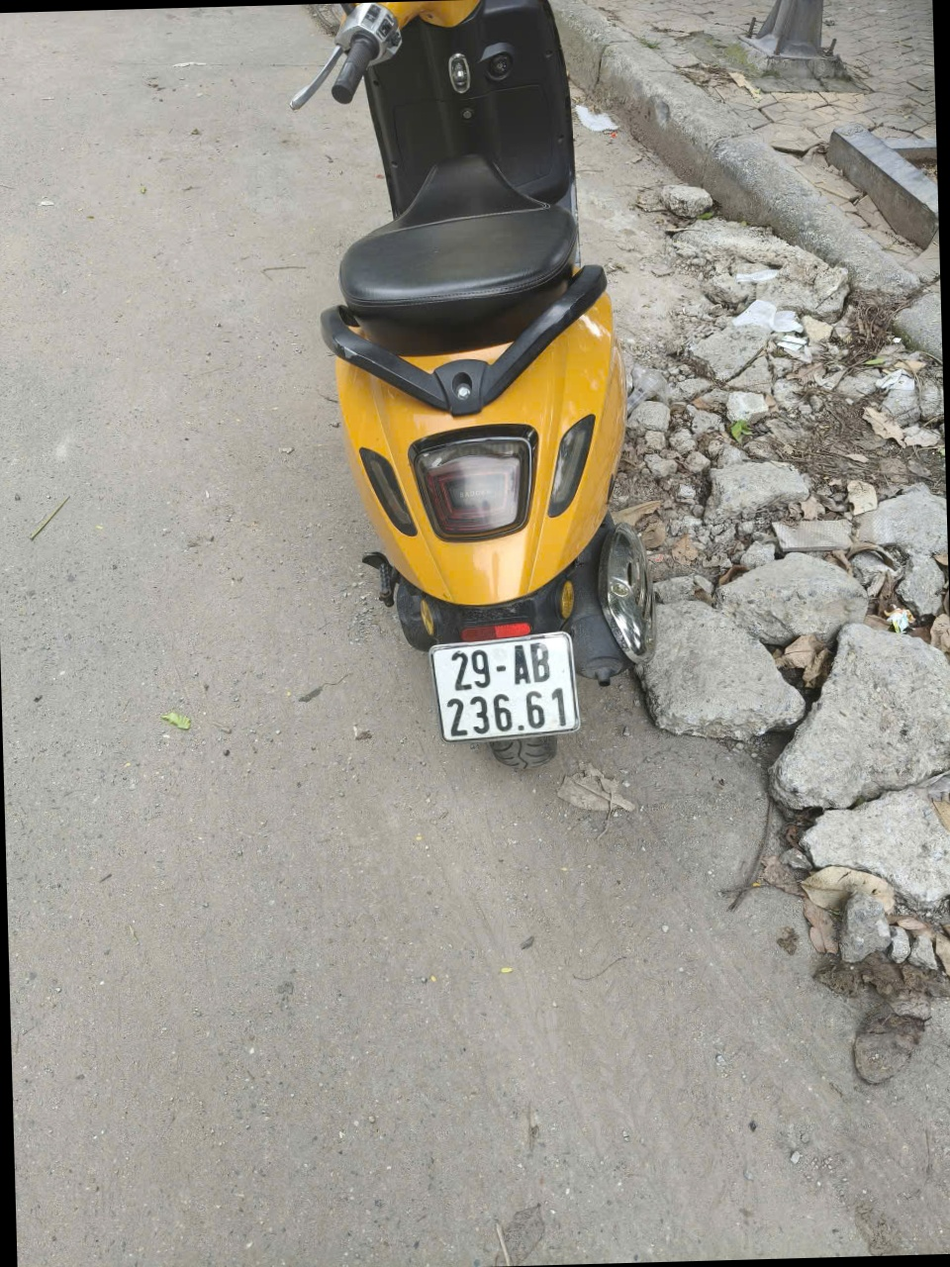plate: (409, 425, 534, 451)
